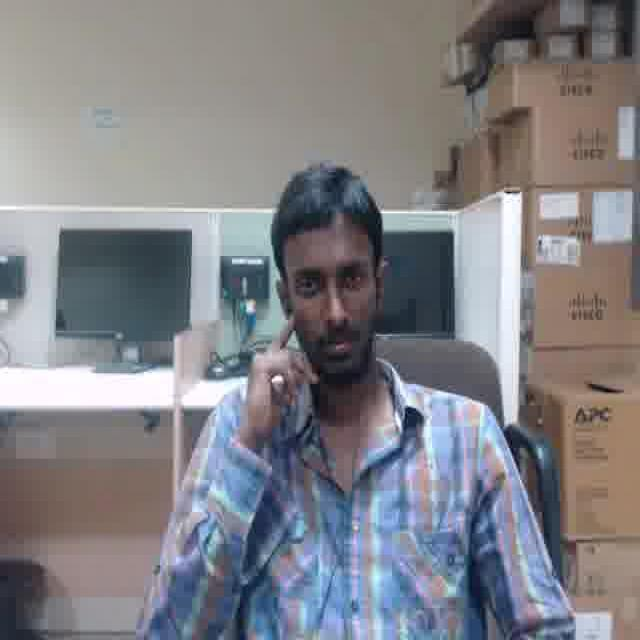Frustration: (285, 221, 374, 375)
